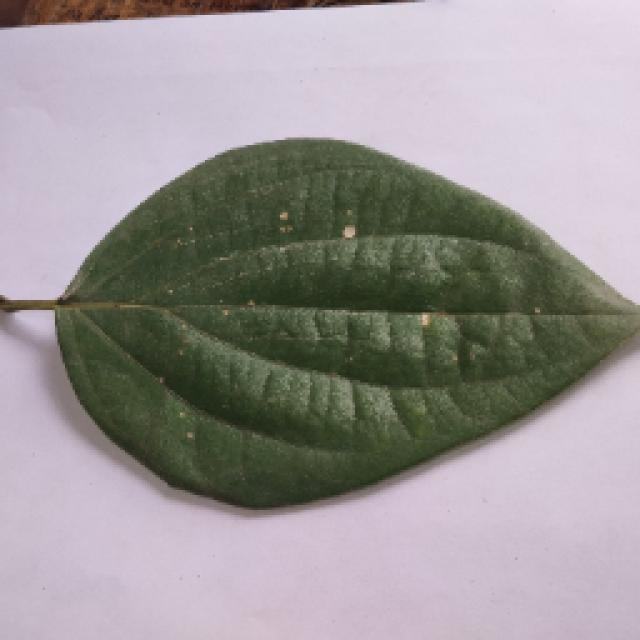pollu-disease: (25, 135, 635, 510)
